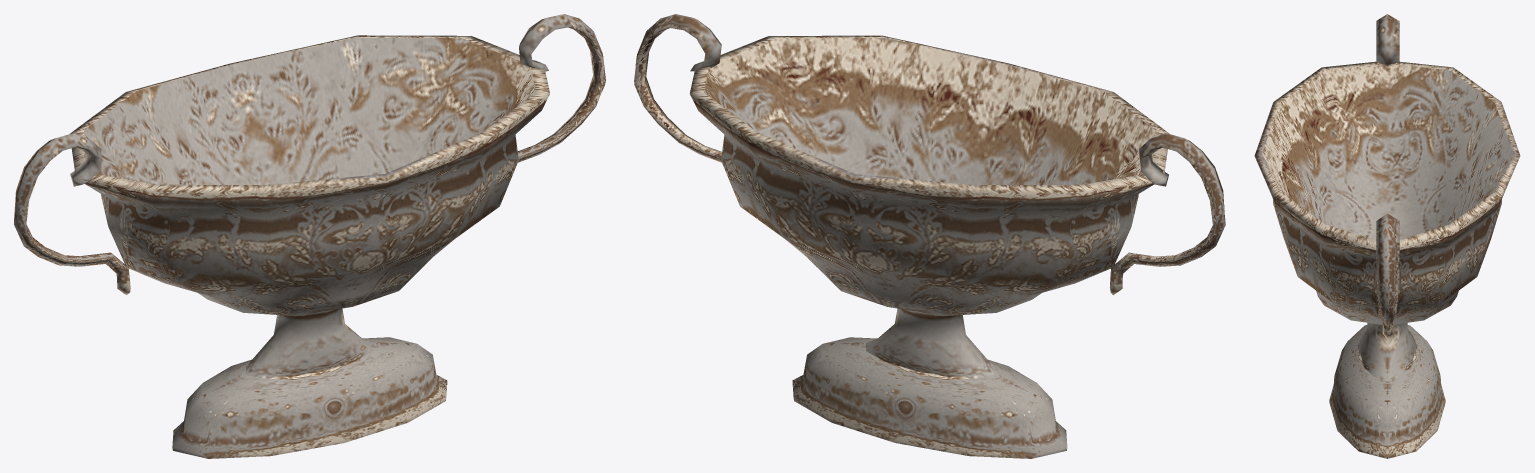
Rendered from copaBernabeuB.FBX.
3 views of the same model, side by side, from view 1: azimuth 30°, elevation 25°; view 2: azimuth 150°, elevation 25°; view 3: azimuth 270°, elevation 25° (orthographic). The views are drawn at different scales.
Parts seen in each view (by area): view 1: copaBernabeuB; view 2: copaBernabeuB; view 3: copaBernabeuB.
Boxes of the visible parts, box(x1,y1,x2,y2) form: copaBernabeuB: box(14, 14, 605, 458); copaBernabeuB: box(634, 14, 1225, 458); copaBernabeuB: box(1254, 14, 1520, 458).
Size of the model in its own units: 160 by 88.54 by 74.64.
